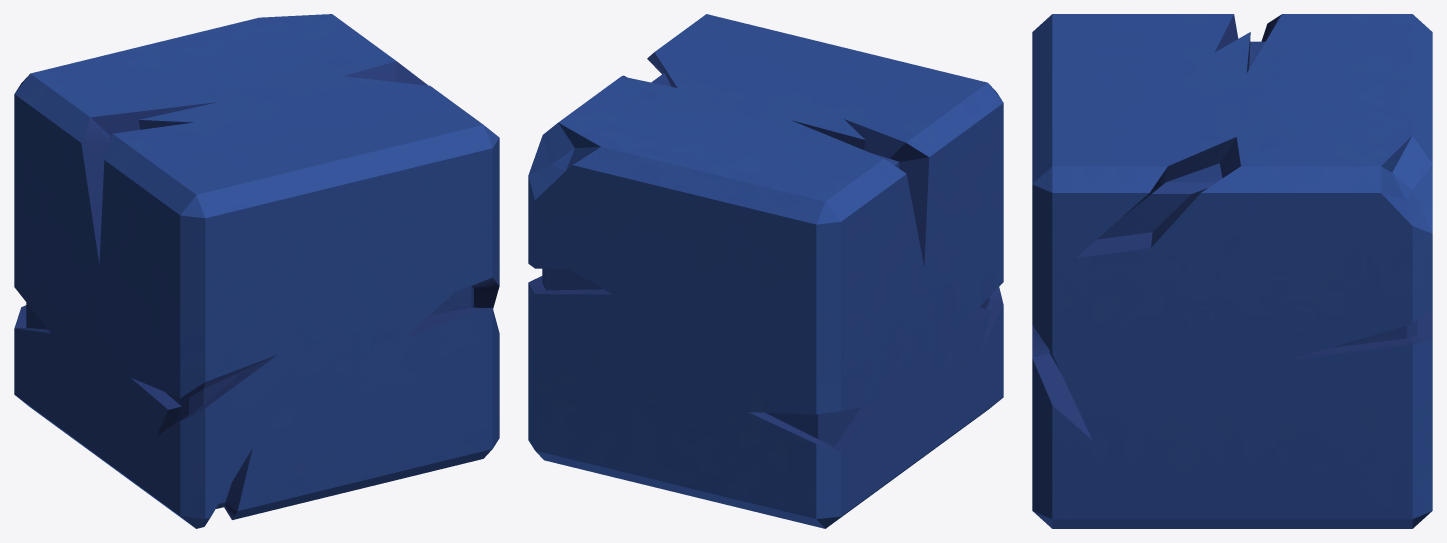
Rendered from SM_Rock.fbx.
The picture shows the model from 3 angles, left to right: view 1: azimuth 30°, elevation 25°; view 2: azimuth 150°, elevation 25°; view 3: azimuth 270°, elevation 25°; orthographic projection. The views are drawn at different scales.
Visible parts, largest first — view 1: block; view 2: block; view 3: block.
Part boxes in pixels (box(x1,y1,x2,y2)): block: box(14, 14, 499, 528); block: box(528, 14, 1003, 528); block: box(1032, 14, 1432, 528).
Bounding box in the file's own units: 74.76 × 74.76 × 74.76.
